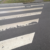zebra: (1, 3, 43, 50)
